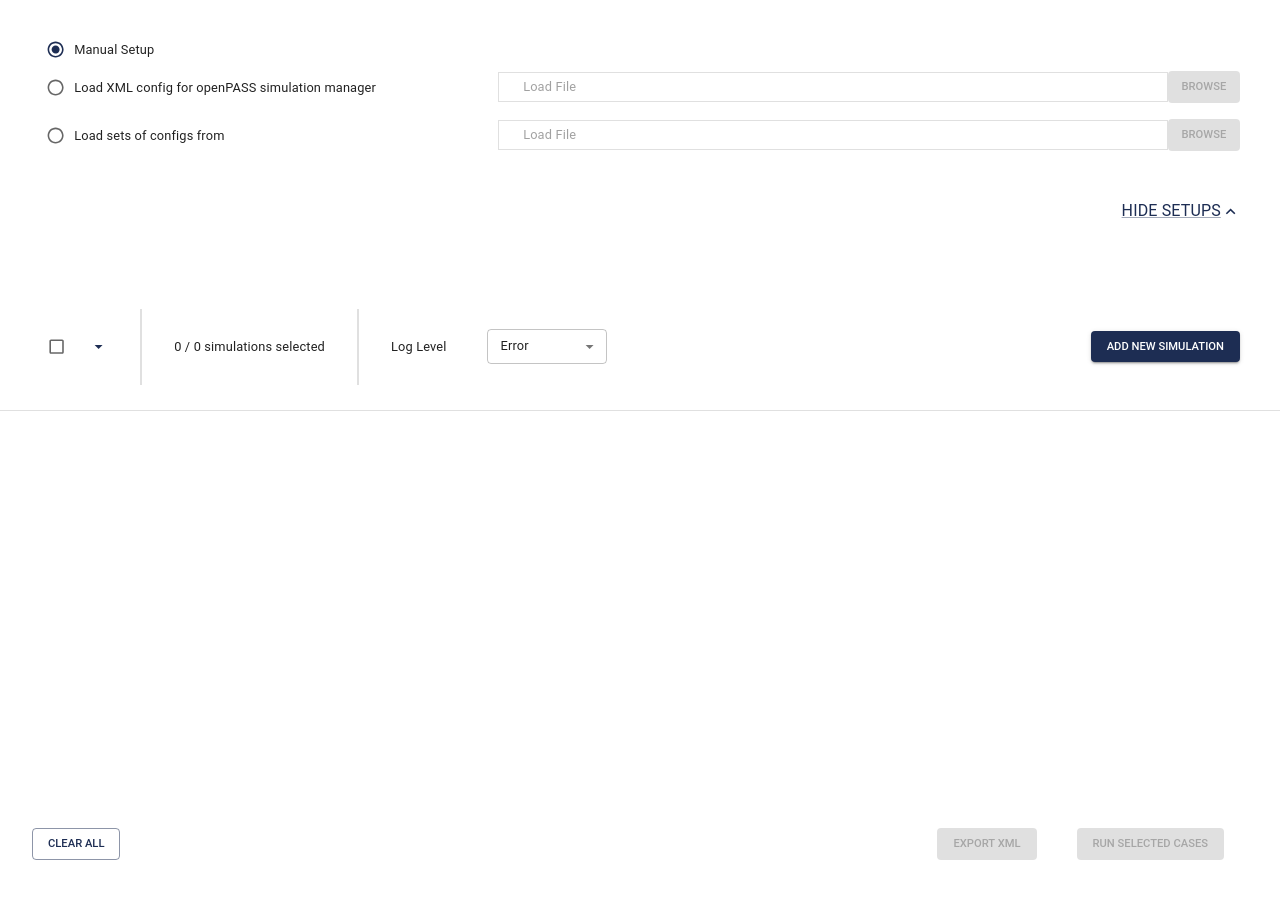
Test: Test Suit For Simulation Manager Component › Should add sim on click
What coordinates should you click on to do the following:
click the button with test id "test-id-add-button"
I would click on:
 (1165, 347)
Its box is [1091, 331, 1240, 362].
(page scrolled)
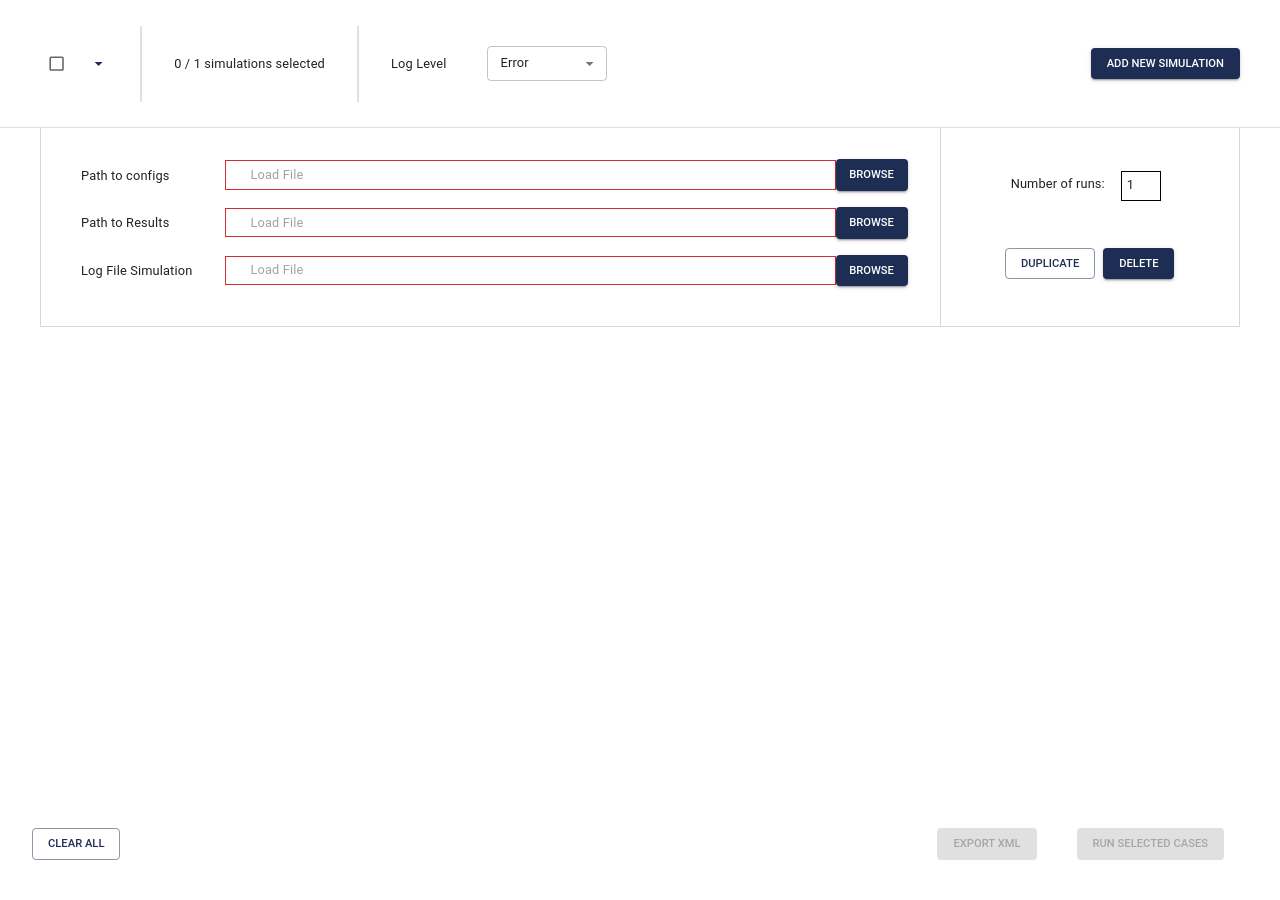
Expected: the element with test id "test-id-sim-container" does not show "", [40, 64, 1240, 327]
Result: the element with test id "test-sim-1" is shown at [40, 64, 1240, 327]
